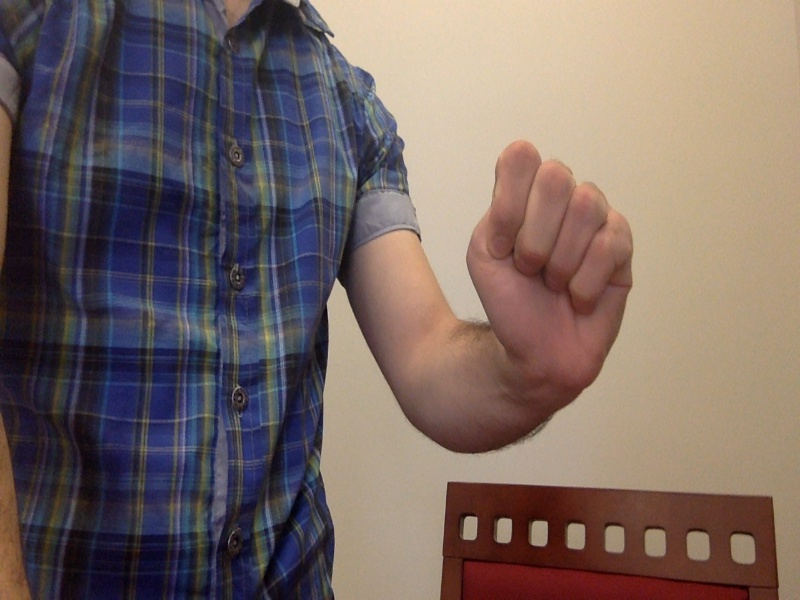0-hand: (472, 140, 638, 396)
